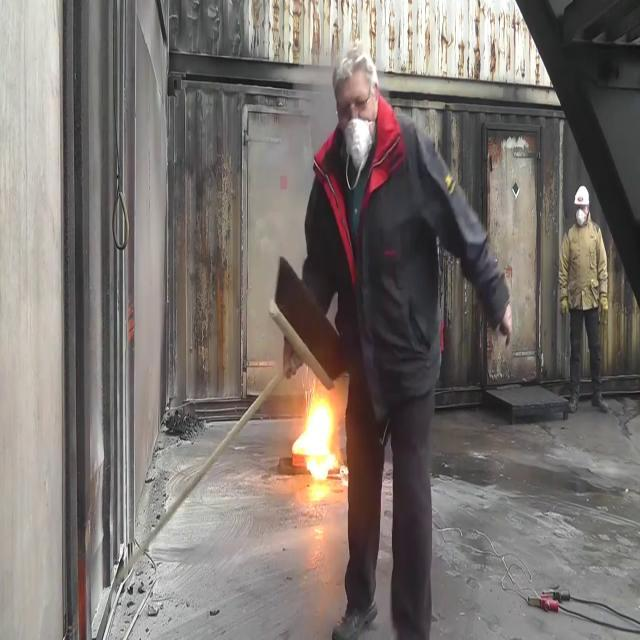Fire: (290, 384, 342, 491)
